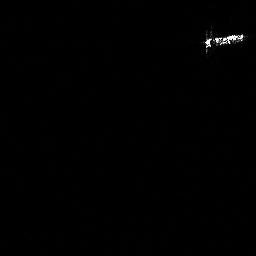ship: (201, 29, 244, 54)
